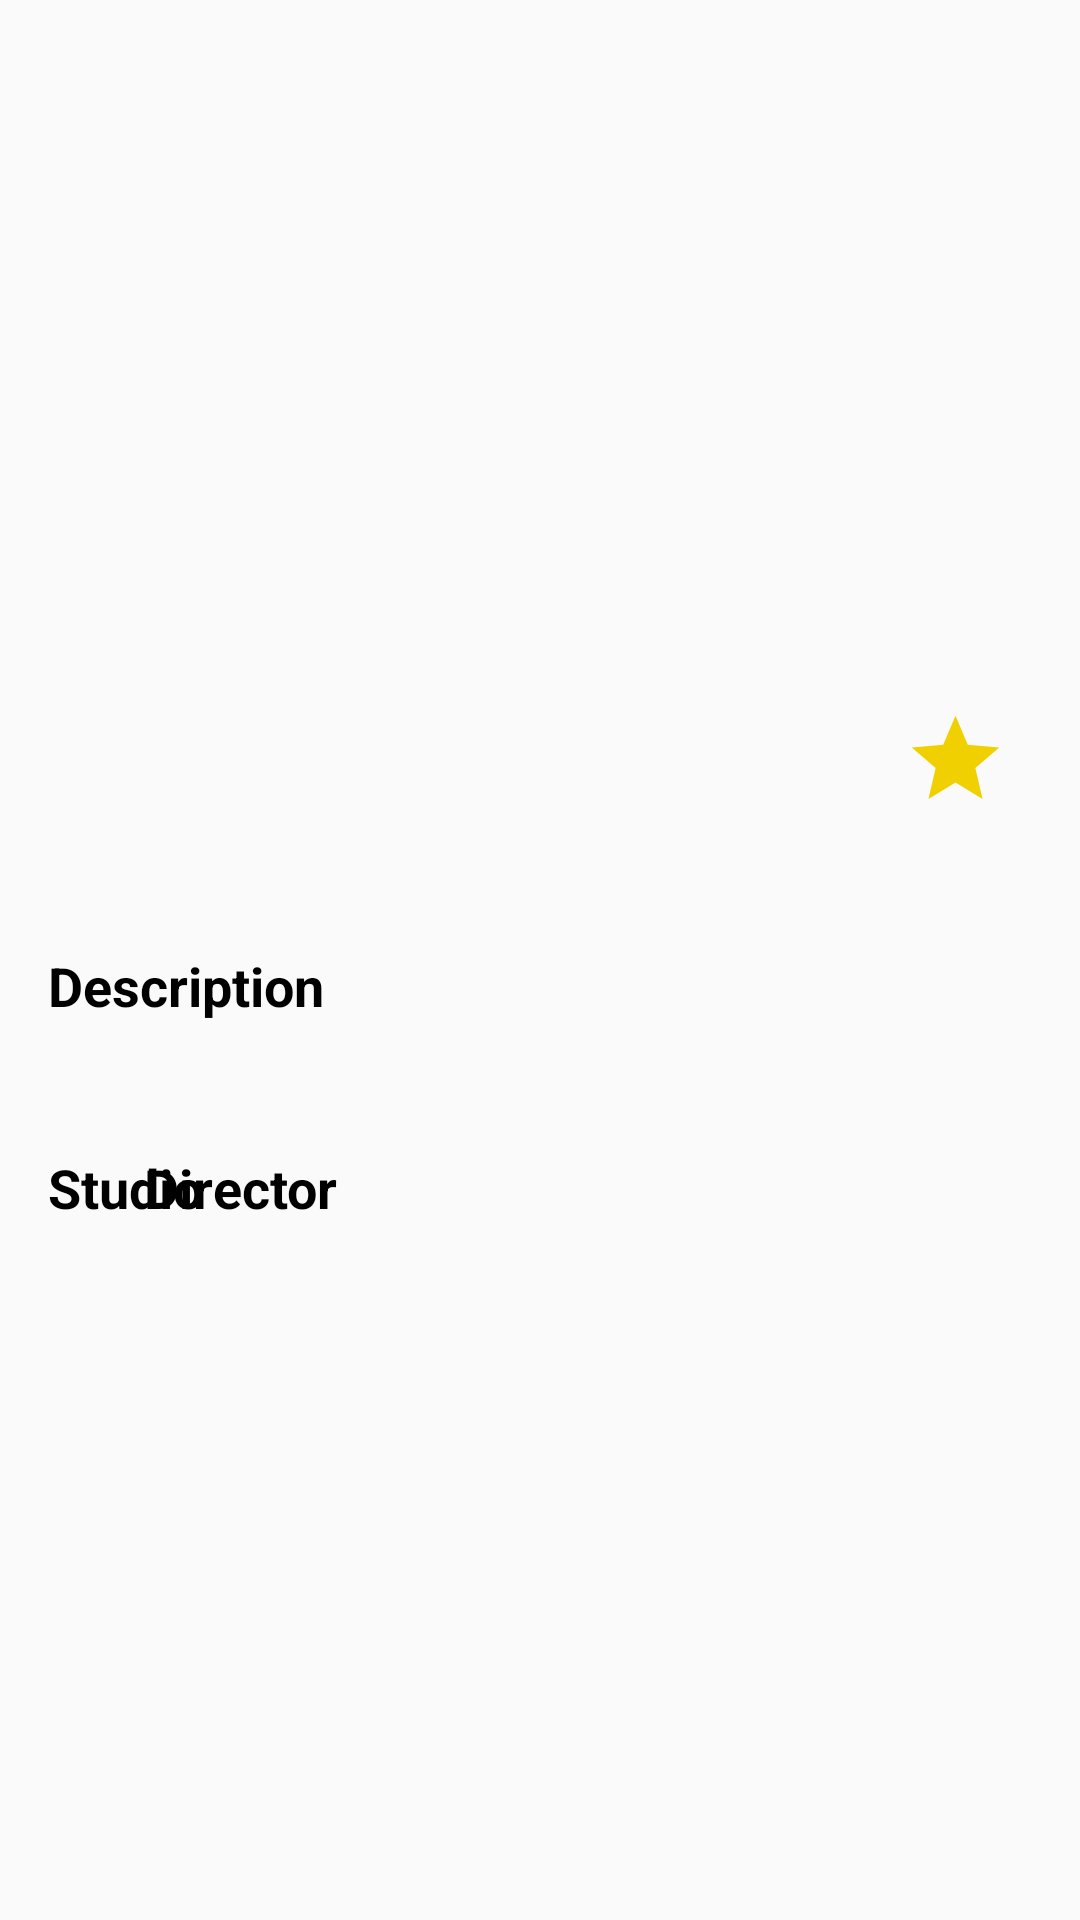

Icon click points for this 1080×1920 phone screenshot, format [x,y]:
star rating: [955,757]
